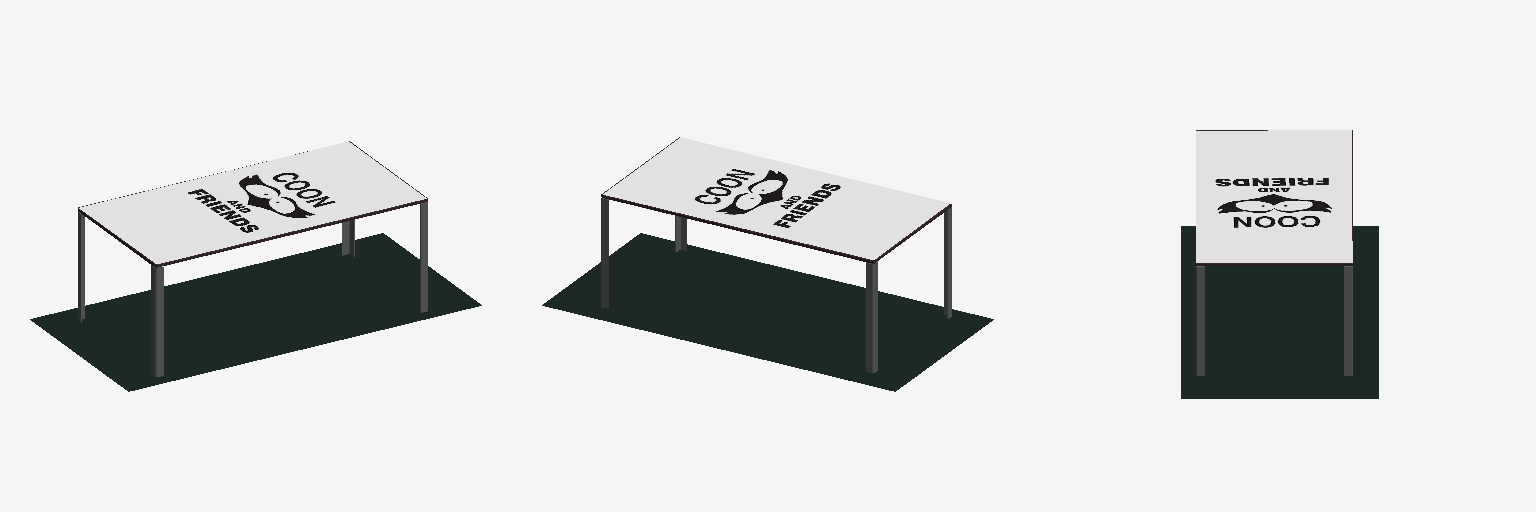
3 views of the same model, side by side, from view 1: azimuth 30°, elevation 25°; view 2: azimuth 150°, elevation 25°; view 3: azimuth 270°, elevation 25° (orthographic).
Parts seen in each view (by area): view 1: pPlane1, polySurface10 stolic:noge1, stolic:noge1 polySurface11; view 2: pPlane1, polySurface10 stolic:noge1, stolic:noge1 polySurface11; view 3: pPlane1, polySurface10 stolic:noge1, stolic:noge1 polySurface11.
Part boxes in pixels (bbox=[...]): pPlane1: bbox=[30, 233, 481, 391]; polySurface10 stolic:noge1: bbox=[79, 141, 426, 263]; stolic:noge1 polySurface11: bbox=[78, 141, 427, 376]; pPlane1: bbox=[542, 233, 993, 391]; polySurface10 stolic:noge1: bbox=[603, 137, 950, 259]; stolic:noge1 polySurface11: bbox=[601, 137, 951, 372]; pPlane1: bbox=[1181, 226, 1378, 398]; polySurface10 stolic:noge1: bbox=[1196, 130, 1352, 262]; stolic:noge1 polySurface11: bbox=[1196, 130, 1352, 375].
Bounding box in the file's own units: 4.16 × 1.27 × 2.02.
Materials: 4 (4 with a texture image).